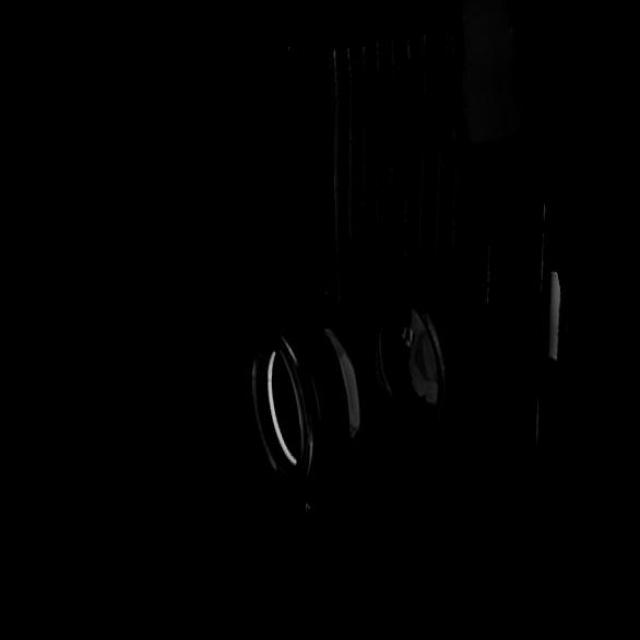defect: (342, 408, 354, 432)
glass: (237, 268, 462, 502)
